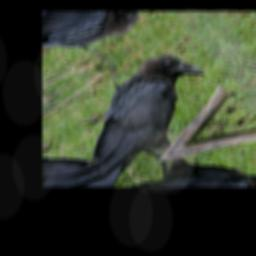Crow: (53, 39, 239, 186)
